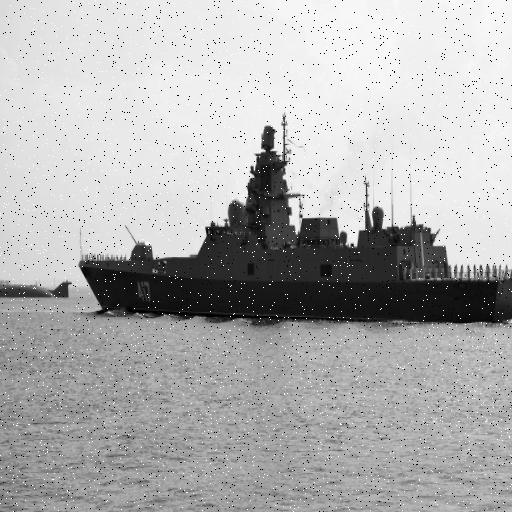Fragata: (78, 115, 512, 322)
